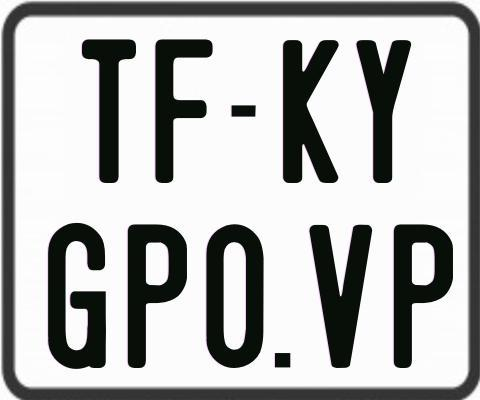0: (203, 224, 265, 374)
F: (152, 36, 210, 186)
G: (45, 221, 104, 370)
K: (282, 38, 342, 187)
P: (391, 224, 455, 370), (126, 222, 186, 371)
T: (80, 37, 138, 185)
V: (306, 223, 375, 369)
Y: (355, 38, 415, 184)
